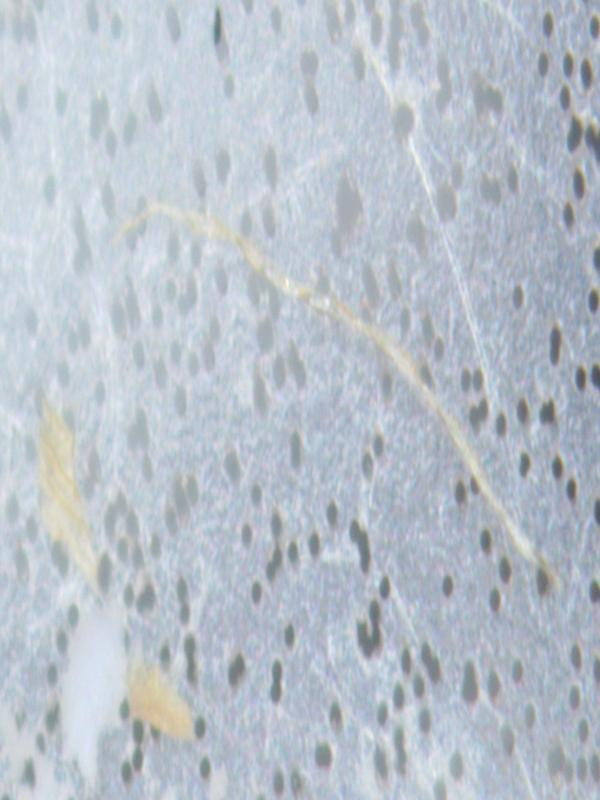microplastic: (2, 2, 598, 797)
